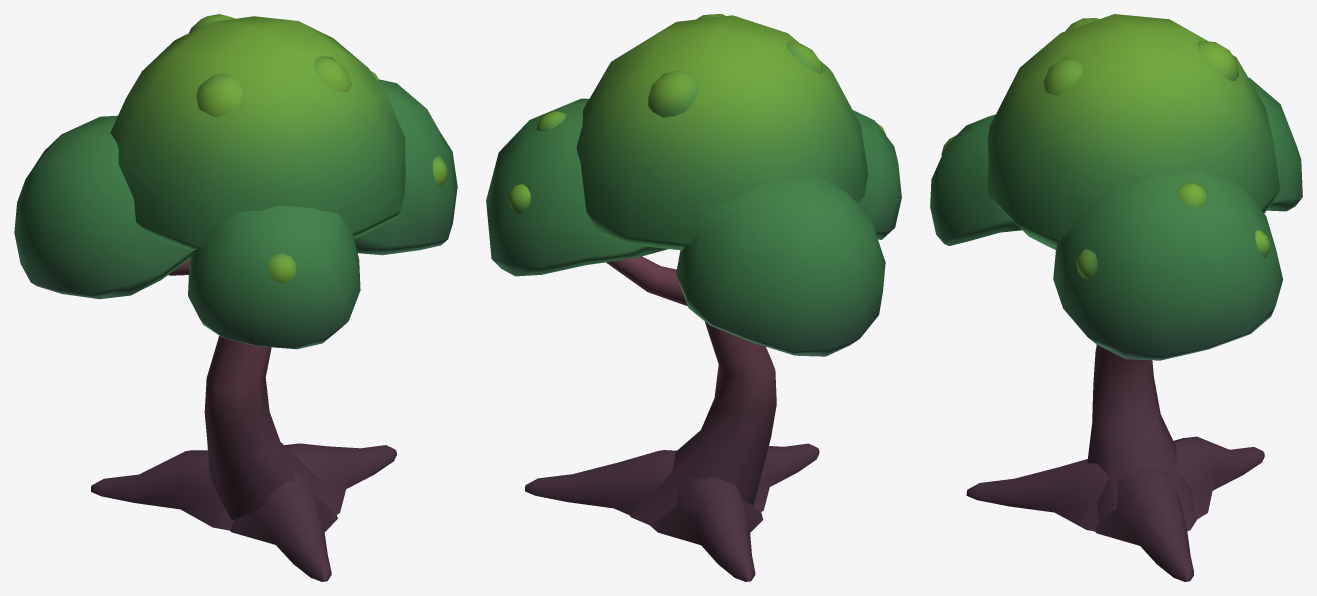
Rendered from tree_pack_13.glb.
The picture shows the model from 3 angles, left to right: view 1: azimuth 30°, elevation 25°; view 2: azimuth 150°, elevation 25°; view 3: azimuth 270°, elevation 25°; orthographic projection. The views are drawn at different scales.
Parts seen in each view (by area): view 1: Tree.013; view 2: Tree.013; view 3: Tree.013.
Part boxes in pixels (x1,y1,x2,y2): Tree.013: (14,14,457,581); Tree.013: (486,14,901,581); Tree.013: (930,14,1302,581).
Bounding box in the file's own units: 4.41 × 5.22 × 3.72.
1 material, 1 textured.
